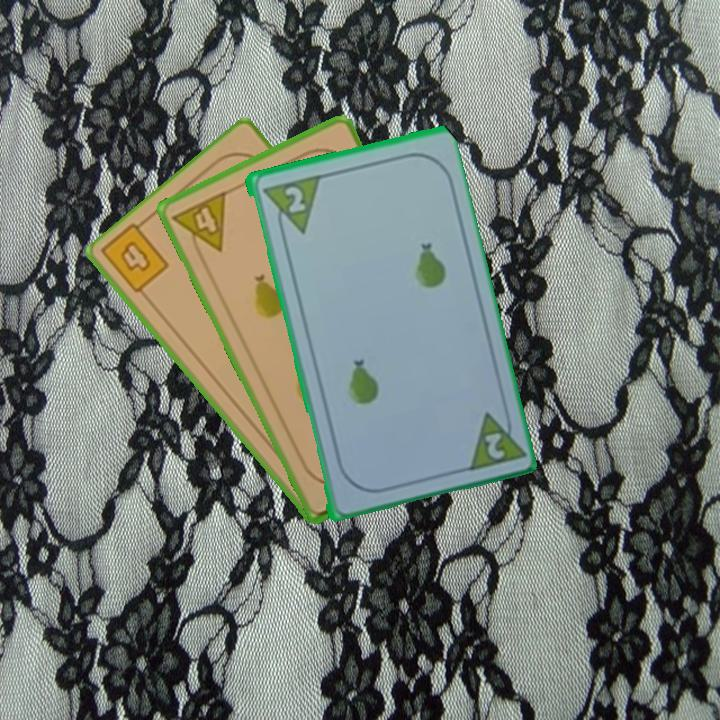2p: (280, 182, 308, 216), (480, 428, 507, 462)
4b: (115, 237, 154, 276)
4p: (168, 187, 229, 263)
